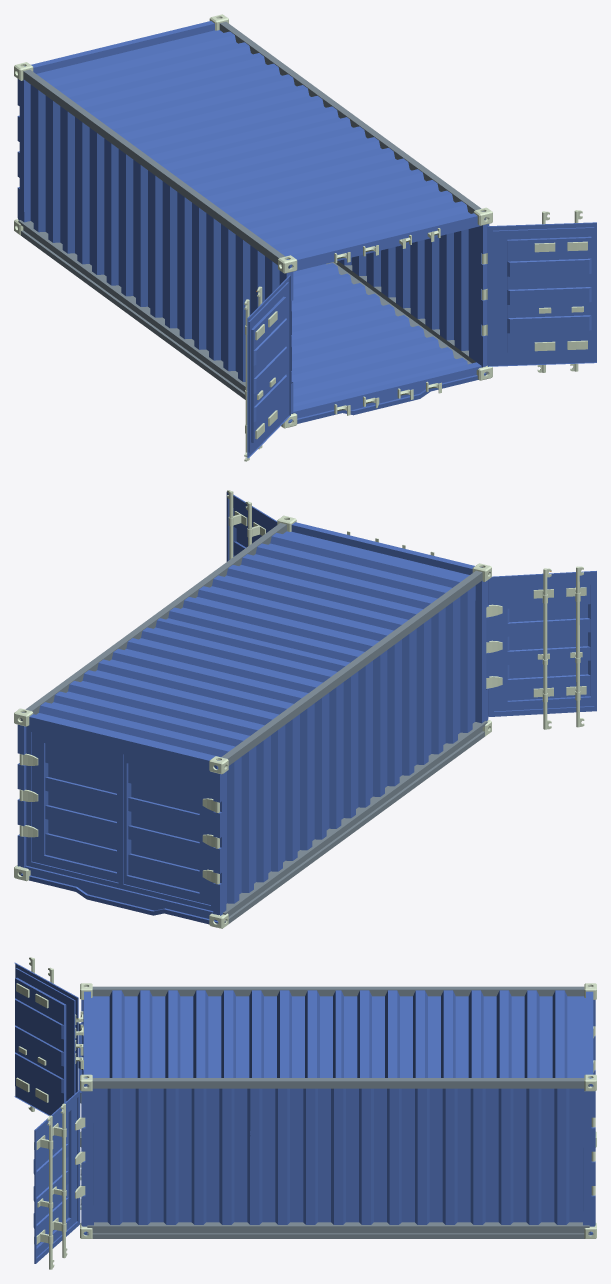
File: shippingContainersOpen.fbx
The picture shows the model from 3 angles, top to bottom: view 1: azimuth 30°, elevation 25°; view 2: azimuth 150°, elevation 25°; view 3: azimuth 270°, elevation 25°; orthographic projection. The views are drawn at different scales.
Parts seen in each view (by area): view 1: Blue[broken].002, BlueDoor[broken].R.001, BlueDoor[broken].L.001; view 2: Blue[broken].002, BlueDoor[broken].L.001, BlueDoor[broken].R.001; view 3: Blue[broken].002, BlueDoor[broken].L.001, BlueDoor[broken].R.001.
Boxes of the visible parts, x1,y1,x2,y2 form: Blue[broken].002: (14,14,492,428); BlueDoor[broken].R.001: (481,210,596,372); BlueDoor[broken].L.001: (244,275,291,461); Blue[broken].002: (14,515,491,928); BlueDoor[broken].L.001: (486,566,596,729); BlueDoor[broken].R.001: (226,490,277,561); Blue[broken].002: (75,983,596,1238); BlueDoor[broken].L.001: (14,957,83,1115); BlueDoor[broken].R.001: (33,1090,85,1269).
Size of the model in its own units: 475 by 697 by 216.
